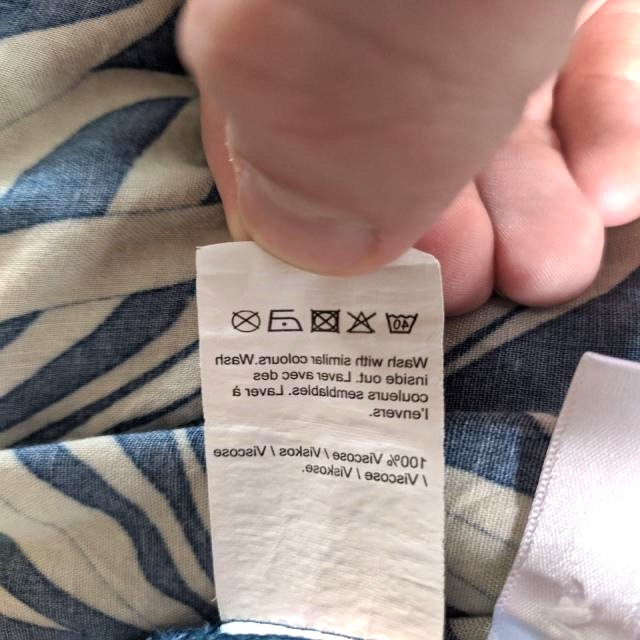40C: (384, 306, 419, 338)
DN_bleach: (343, 309, 381, 337)
DN_dry_clean: (229, 306, 262, 334)
DN_tumble_dry: (306, 304, 342, 338)
iron_low: (264, 304, 304, 336)
